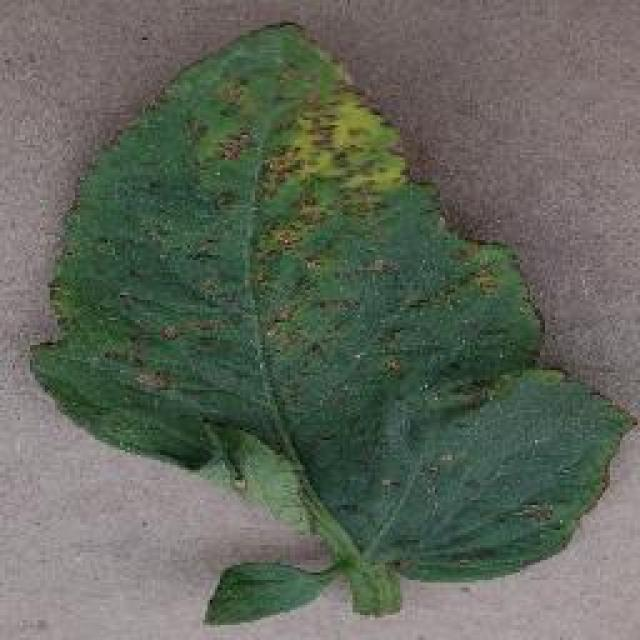Tomato___Bacterial_spot: (29, 19, 638, 624)
